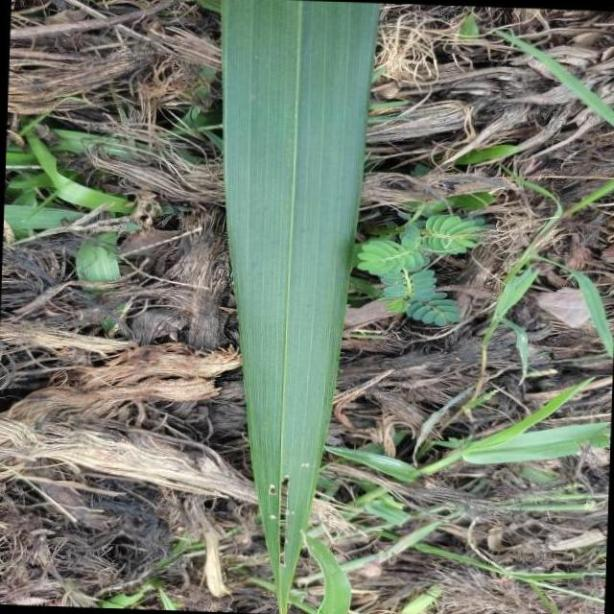Boron: (221, 0, 379, 614)
